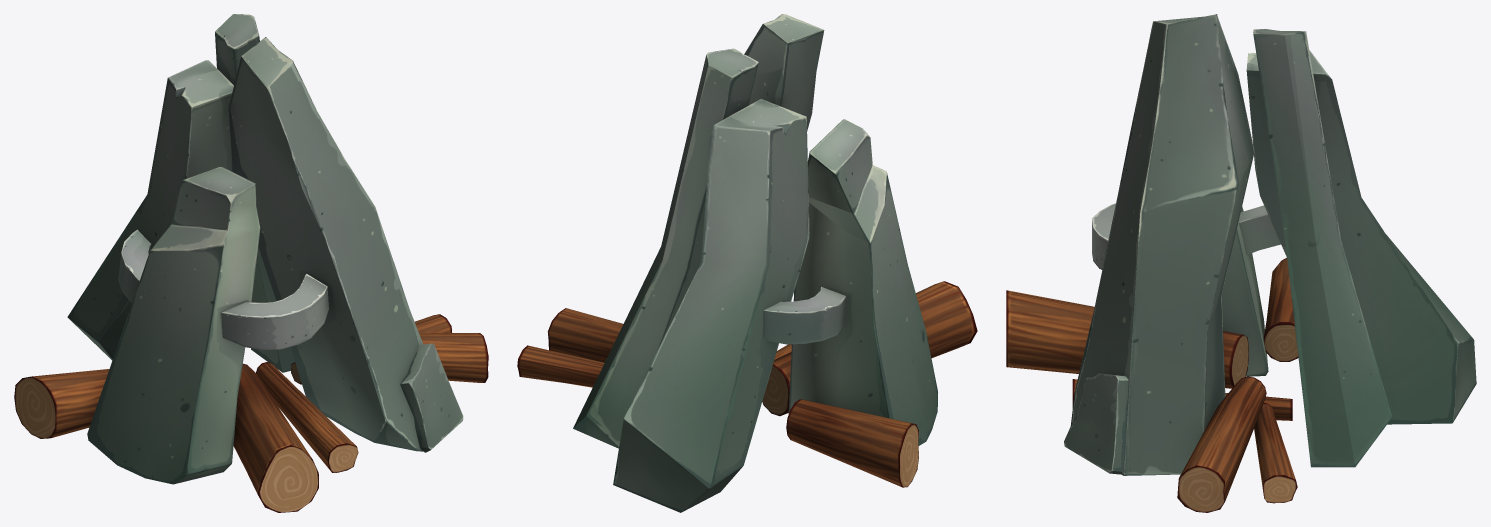
Rendered from campfire_rockwood.fbx.
3 renders of one model, left to right at view 1: azimuth 30°, elevation 25°; view 2: azimuth 150°, elevation 25°; view 3: azimuth 270°, elevation 25°, orthographic.
Parts seen in each view (by area): view 1: forest-rock_LOD0; view 2: forest-rock_LOD0; view 3: forest-rock_LOD0.
Boxes of the visible parts, x1,y1,x2,y2 form: forest-rock_LOD0: (14, 14, 488, 512); forest-rock_LOD0: (517, 14, 977, 512); forest-rock_LOD0: (1006, 14, 1476, 512).
Bounding box in the file's own units: 8.93 × 8.18 × 8.8.
